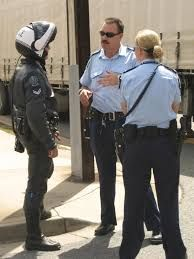uniform: (125, 61, 179, 232), (84, 52, 125, 217)
